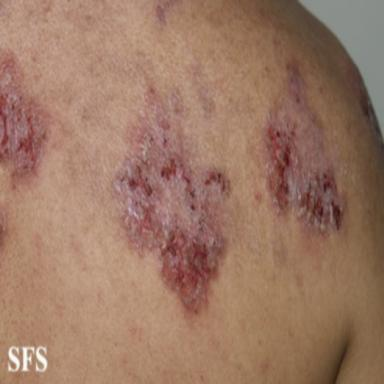Hailey-Hailey-Disease: (114, 85, 233, 313), (264, 63, 343, 237), (0, 51, 49, 187)
